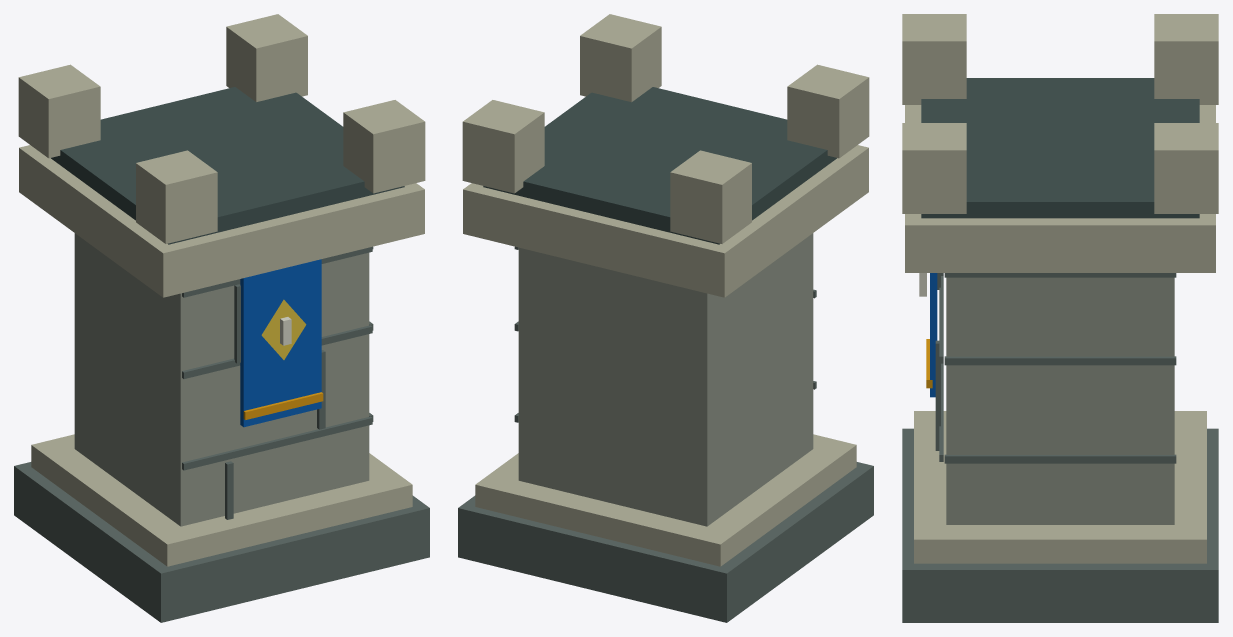
File: tower_base_l2.fbx
3 views of the same model, side by side, from view 1: azimuth 30°, elevation 25°; view 2: azimuth 150°, elevation 25°; view 3: azimuth 270°, elevation 25° (orthographic). The views are drawn at different scales.
Visible parts, largest first — view 1: tower_base_l2; view 2: tower_base_l2; view 3: tower_base_l2.
Boxes of the visible parts, left/top/right/bottom form: tower_base_l2: left=14, top=14, right=429, bottom=622; tower_base_l2: left=458, top=14, right=873, bottom=622; tower_base_l2: left=902, top=14, right=1218, bottom=622.
Size of the model in its own units: 1.14 by 1.77 by 1.08.
